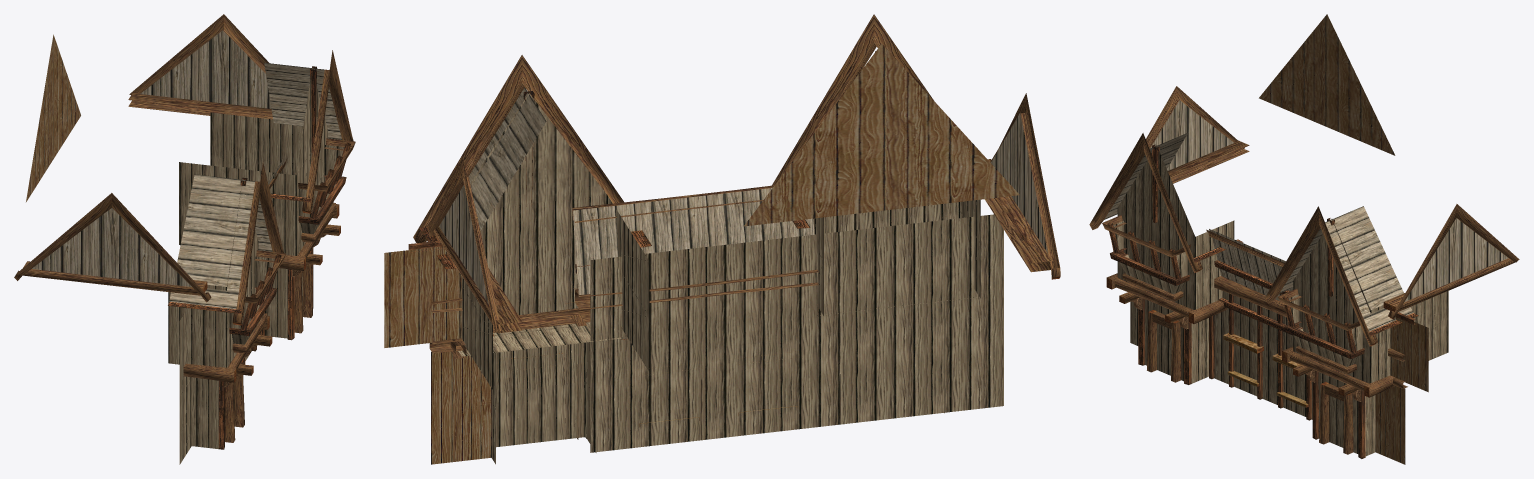
File: LAKETOWN_EXTERIOR_PS_LT_BAKERHOUSE746__GX.obj
The picture shows the model from 3 angles, left to right: view 1: azimuth 30°, elevation 25°; view 2: azimuth 150°, elevation 25°; view 3: azimuth 270°, elevation 25°; orthographic projection. The views are drawn at different scales.
Visible parts, largest first — view 1: kerHouse746__GX; view 2: kerHouse746__GX; view 3: kerHouse746__GX.
Boxes of the visible parts, x1,y1,x2,y2 form: kerHouse746__GX: (14,14,355,464); kerHouse746__GX: (384,14,1060,464); kerHouse746__GX: (1089,14,1519,464).
Bounding box in the file's own units: 1765 × 1458 × 1764.
